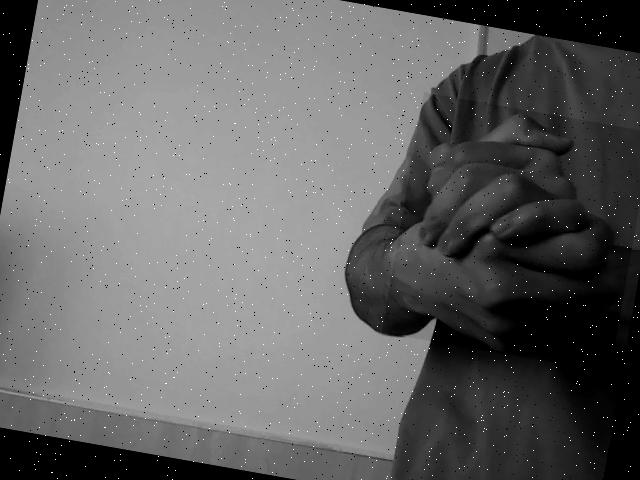friend: (397, 111, 631, 355)
